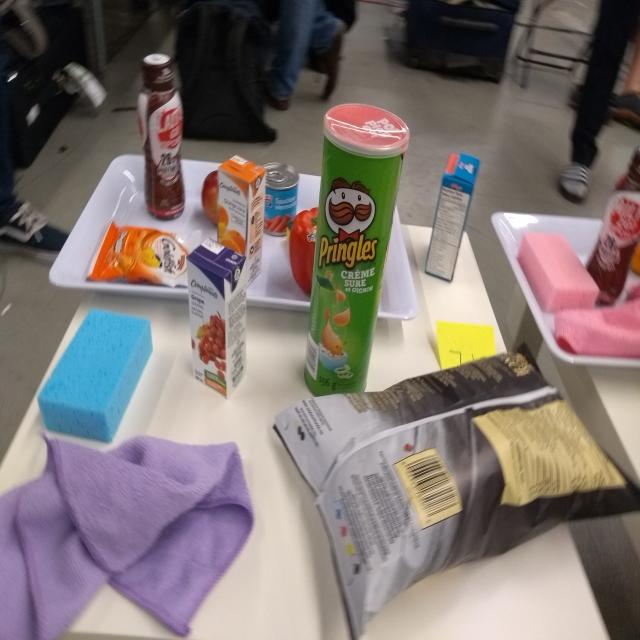apple: (201, 168, 219, 225)
cereal: (422, 150, 481, 289)
chocolate_drink: (133, 50, 187, 224)
crackers: (96, 228, 190, 288)
grape_juice: (189, 239, 248, 394)
orange_juice: (216, 153, 267, 287)
paprika: (288, 206, 323, 298)
potato_chips: (282, 346, 640, 624)
pringles: (304, 94, 400, 395)
sausages: (263, 162, 301, 240)
sponge_opl: (37, 306, 154, 437)
